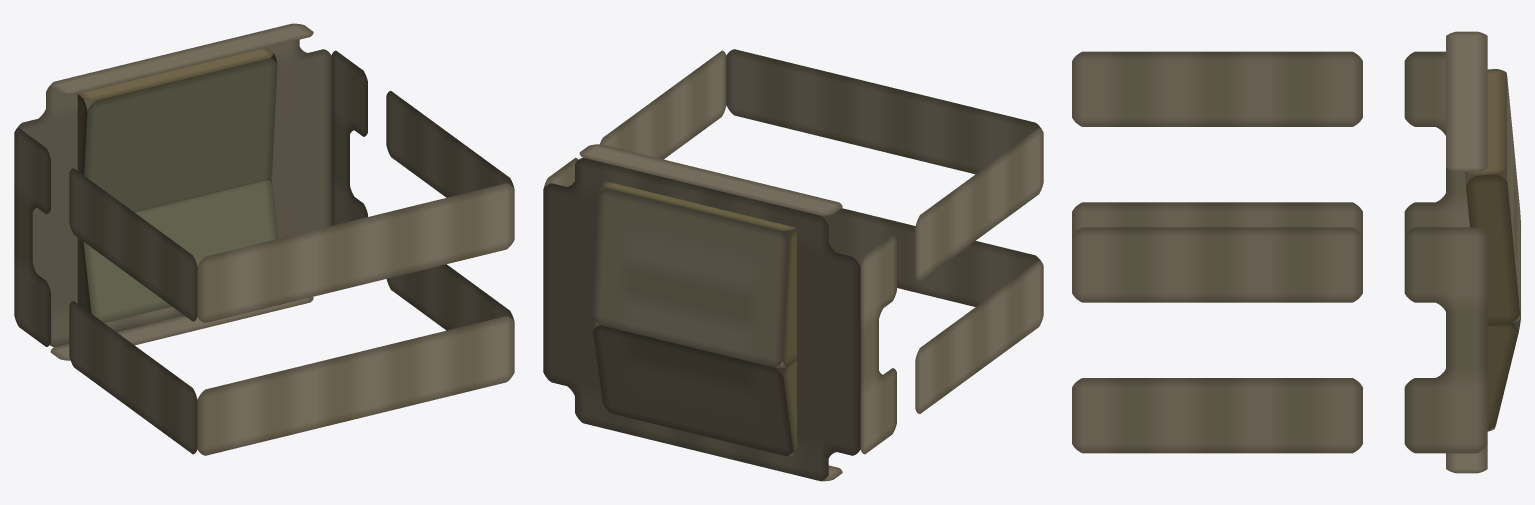
File: ukrainian_basic_kneepads_p_r.obj
3 views of the same model, side by side, from view 1: azimuth 30°, elevation 25°; view 2: azimuth 150°, elevation 25°; view 3: azimuth 270°, elevation 25° (orthographic). The views are drawn at different scales.
Parts seen in each view (by area): view 1: mesh; view 2: mesh; view 3: mesh.
Boxes of the visible parts, bbox=[...] form: mesh: bbox=[14, 23, 514, 455]; mesh: bbox=[543, 49, 1043, 481]; mesh: bbox=[1072, 31, 1520, 473].
Size of the model in its own units: 0.3125 by 0.25 by 0.3375.
